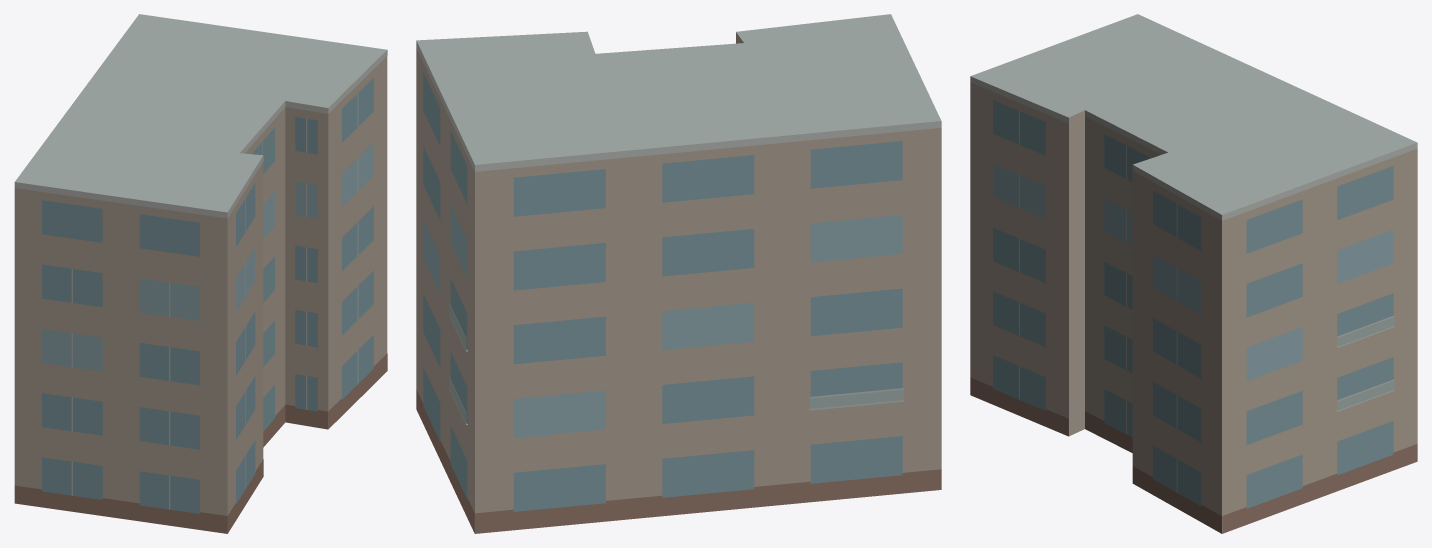
The model's file is survey-upis-32628720.glb.
3 renders of one model, left to right at view 1: azimuth 30°, elevation 25°; view 2: azimuth 150°, elevation 25°; view 3: azimuth 270°, elevation 25°, orthographic. The views are drawn at different scales.
Visible parts, largest first — view 1: survey-upis-32628720.tmp; view 2: survey-upis-32628720.tmp; view 3: survey-upis-32628720.tmp.
Boxes of the visible parts, bbox=[...] form: survey-upis-32628720.tmp: bbox=[14, 14, 387, 533]; survey-upis-32628720.tmp: bbox=[416, 14, 941, 533]; survey-upis-32628720.tmp: bbox=[970, 14, 1417, 533].
Size of the model in its own units: 17.72 by 13.1 by 16.67.
